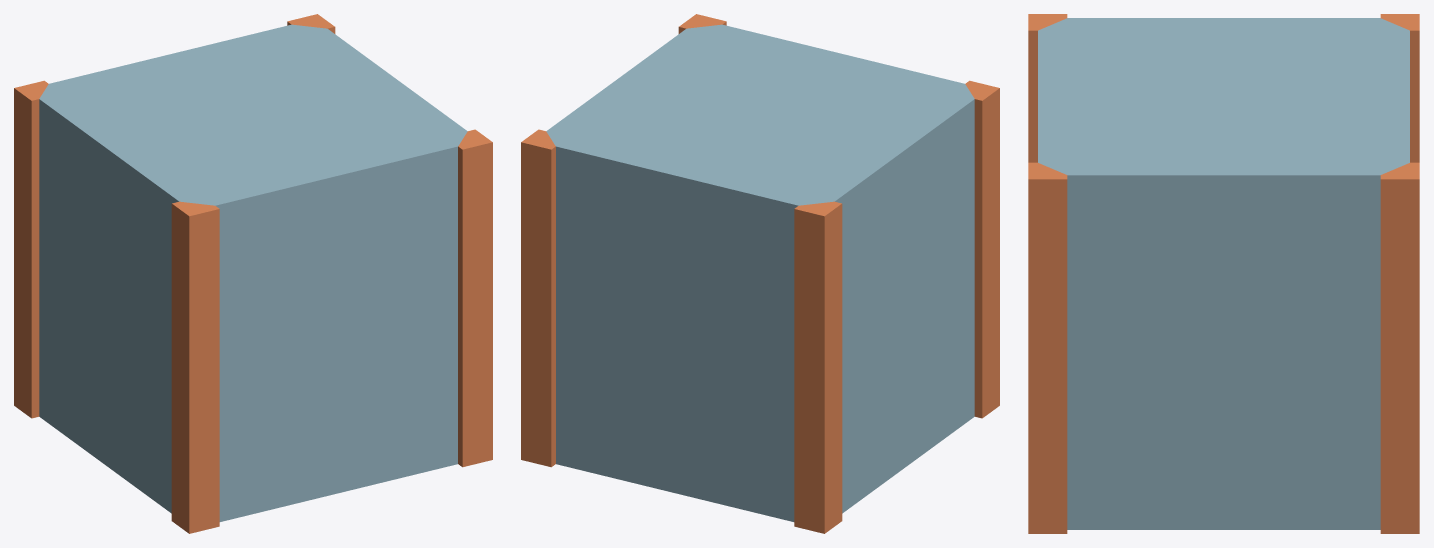
Rendered from wallBlock.fbx.
3 renders of one model, left to right at view 1: azimuth 30°, elevation 25°; view 2: azimuth 150°, elevation 25°; view 3: azimuth 270°, elevation 25°, orthographic. The views are drawn at different scales.
Parts seen in each view (by area): view 1: wallBlock; view 2: wallBlock; view 3: wallBlock.
Part boxes in pixels (<box>): wallBlock: <box>14,14,492,533</box>; wallBlock: <box>521,14,999,533</box>; wallBlock: <box>1028,14,1419,533</box>.
Size of the model in its own units: 10 by 10 by 10.
